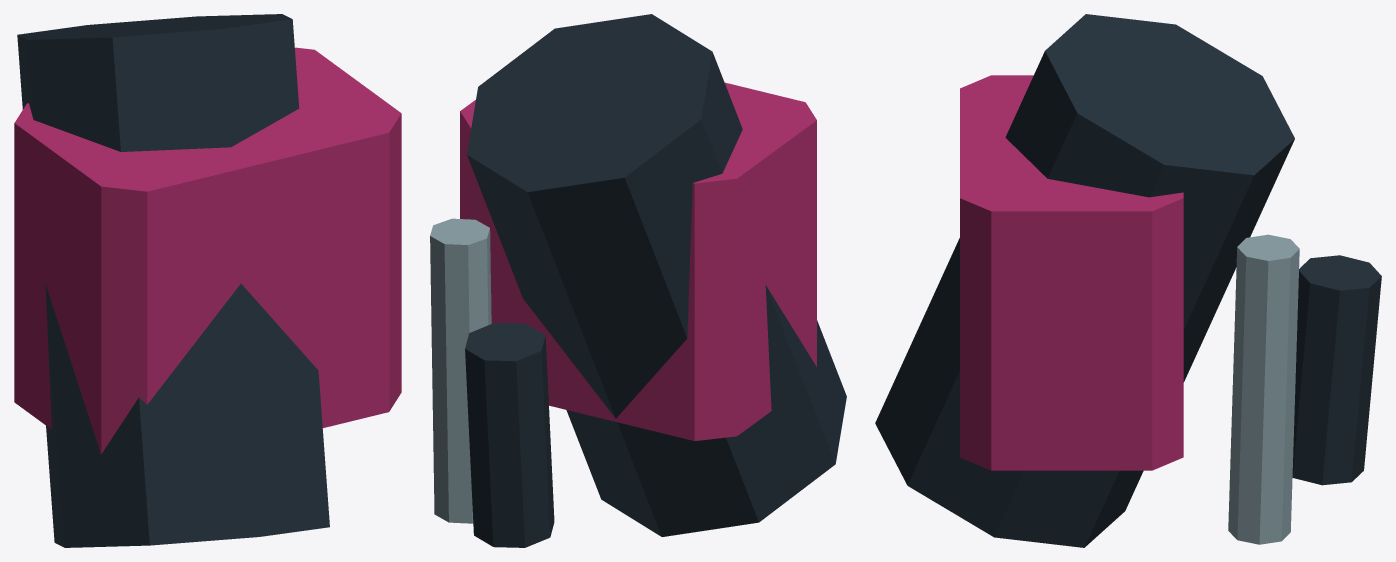
The model's file is enemy_striker_thigh_l.obj.
The picture shows the model from 3 angles, left to right: view 1: azimuth 30°, elevation 25°; view 2: azimuth 150°, elevation 25°; view 3: azimuth 270°, elevation 25°; orthographic projection. The views are drawn at different scales.
Size of the model in its own units: 0.3939 by 0.5985 by 0.5667.
